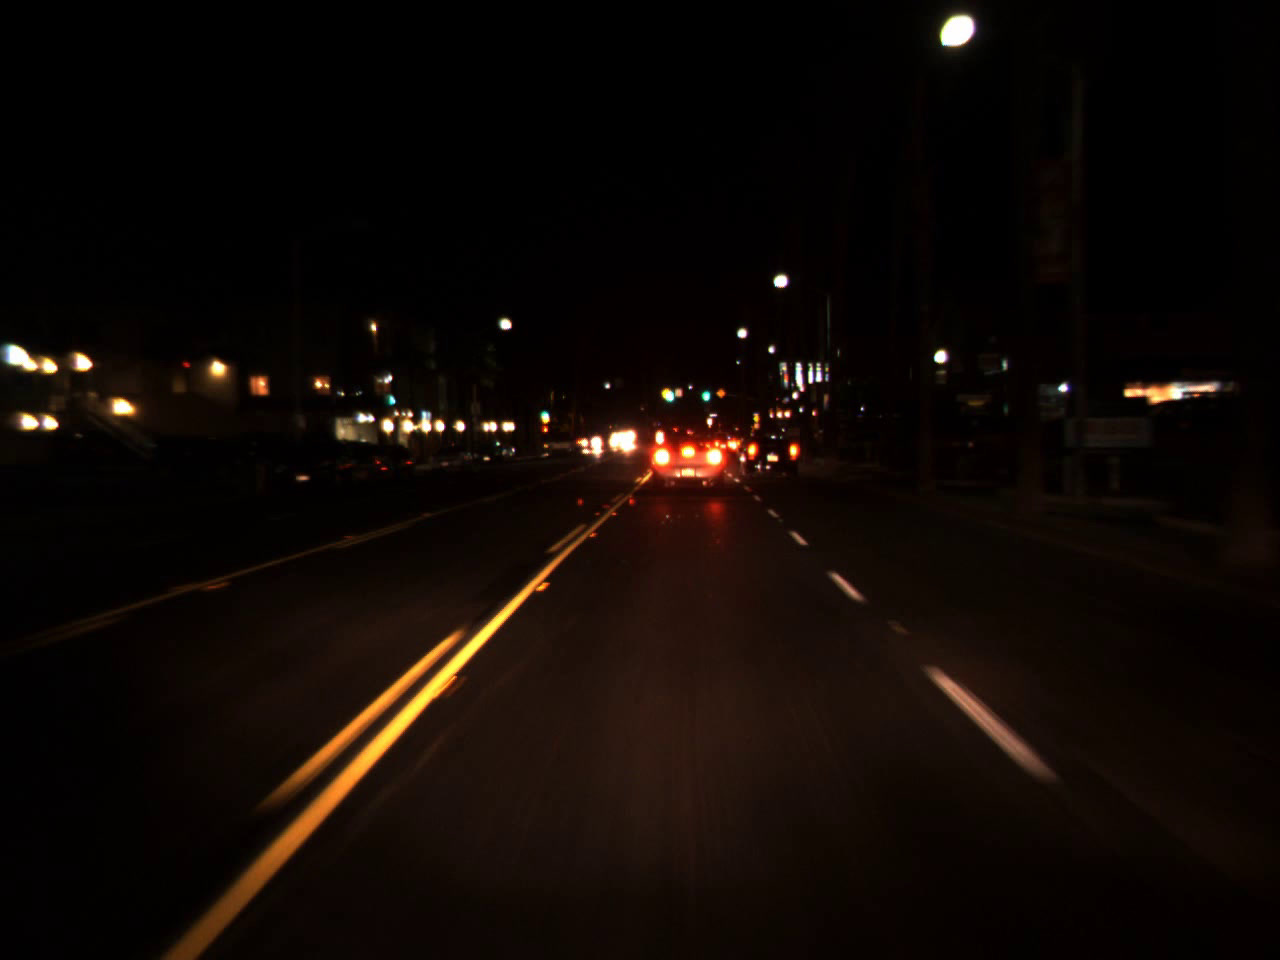go: (698, 378, 712, 405), (663, 383, 675, 404), (540, 404, 549, 419)
